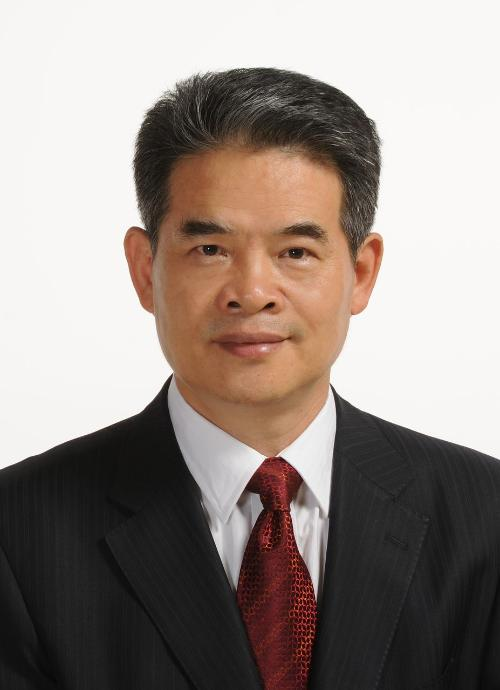unmask: (168, 152, 354, 388)
